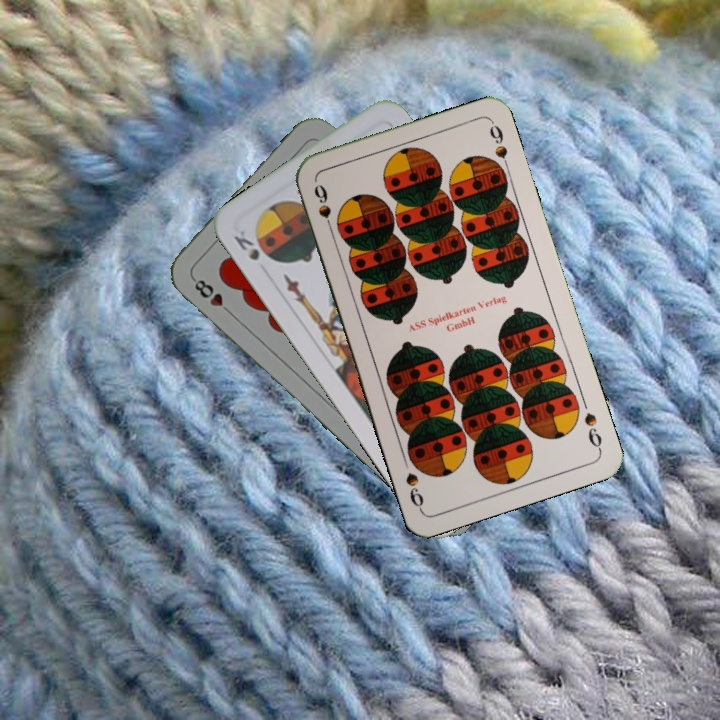H8: (188, 273, 236, 318)
S9: (310, 180, 336, 236), (580, 408, 605, 454)
SK: (229, 226, 262, 263)
